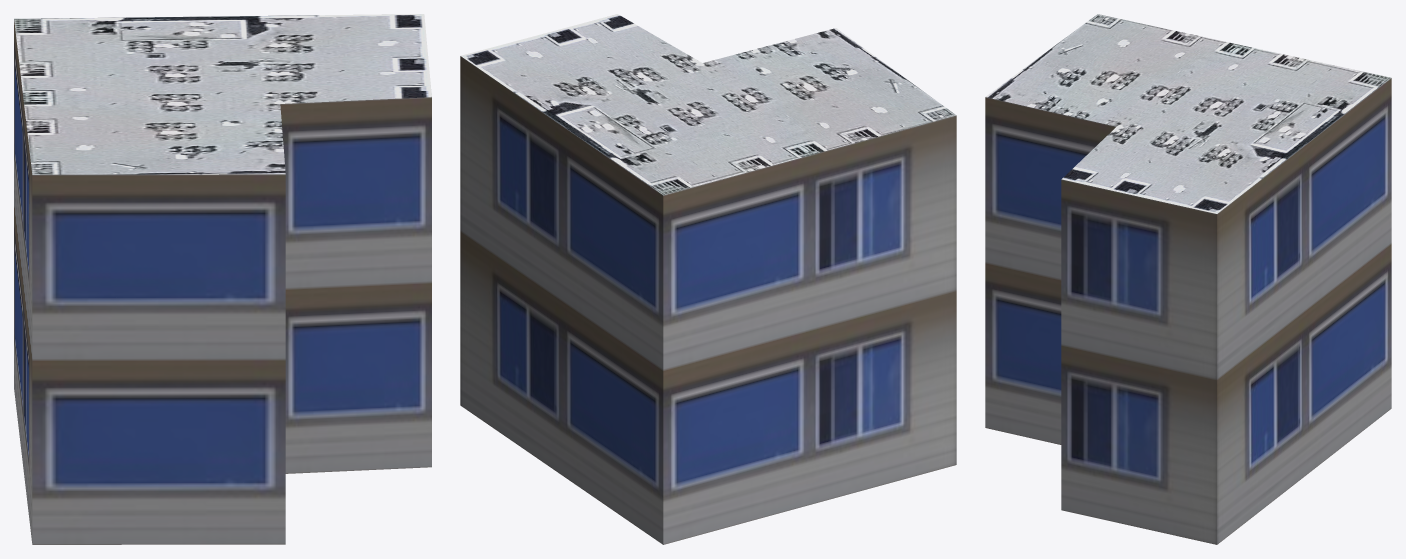
The model's file is ResTex__4057.fbx.
3 views of the same model, side by side, from view 1: azimuth 30°, elevation 25°; view 2: azimuth 150°, elevation 25°; view 3: azimuth 270°, elevation 25° (orthographic). The views are drawn at different scales.
Visible parts, largest first — view 1: CityEngineMaterial_23_m, CityEngineMaterial_4_m; view 2: CityEngineMaterial_23_m, CityEngineMaterial_4_m; view 3: CityEngineMaterial_23_m, CityEngineMaterial_4_m.
Part boxes in pixels (left/top/right/bottom): CityEngineMaterial_23_m: left=14, top=19, right=431, bottom=544; CityEngineMaterial_4_m: left=14, top=14, right=431, bottom=174; CityEngineMaterial_23_m: left=460, top=56, right=956, bottom=544; CityEngineMaterial_4_m: left=460, top=14, right=956, bottom=195; CityEngineMaterial_23_m: left=985, top=78, right=1391, bottom=544; CityEngineMaterial_4_m: left=986, top=14, right=1391, bottom=213.
Bounding box in the file's own units: 7.78 × 6 × 6.68.
Materials: 2 (2 with a texture image).
